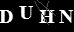D: (1, 10, 12, 23)
H: (38, 9, 55, 24)
N: (58, 9, 74, 24)
U: (18, 5, 33, 19)
